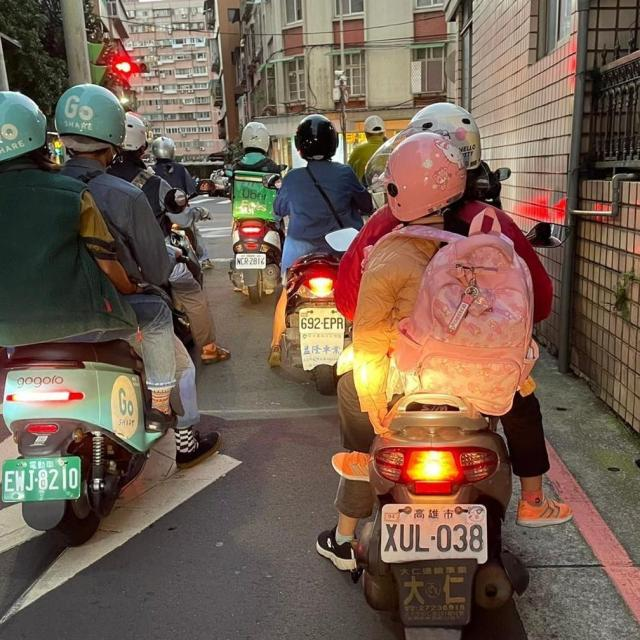W: (371, 494, 494, 570), (0, 449, 92, 508), (291, 301, 349, 341), (232, 246, 272, 274)
